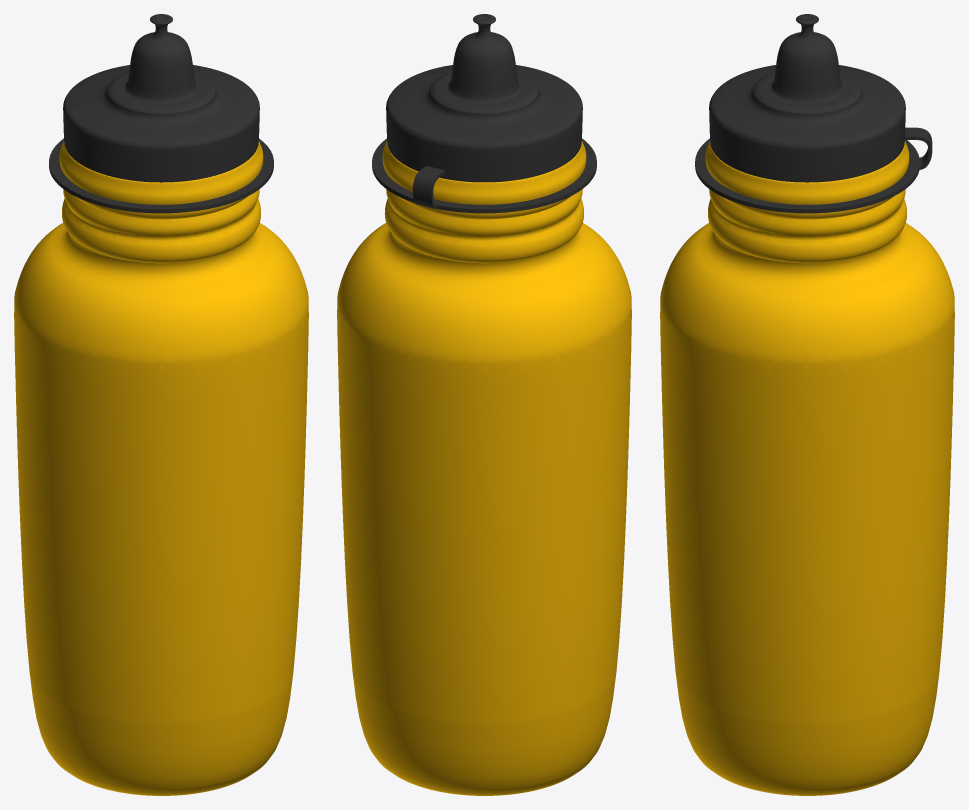
The model's file is 머스타드 완성.FBX.
3 views of the same model, side by side, from view 1: azimuth 30°, elevation 25°; view 2: azimuth 150°, elevation 25°; view 3: azimuth 270°, elevation 25° (orthographic).
Parts seen in each view (by area): view 1: Water_Bottle; view 2: Water_Bottle; view 3: Water_Bottle.
Boxes of the visible parts, box(x1,y1,x2,y2) form: Water_Bottle: box(14, 14, 308, 795); Water_Bottle: box(337, 14, 631, 795); Water_Bottle: box(660, 14, 954, 795).
Size of the model in its own units: 2.68 by 7.43 by 2.68.
